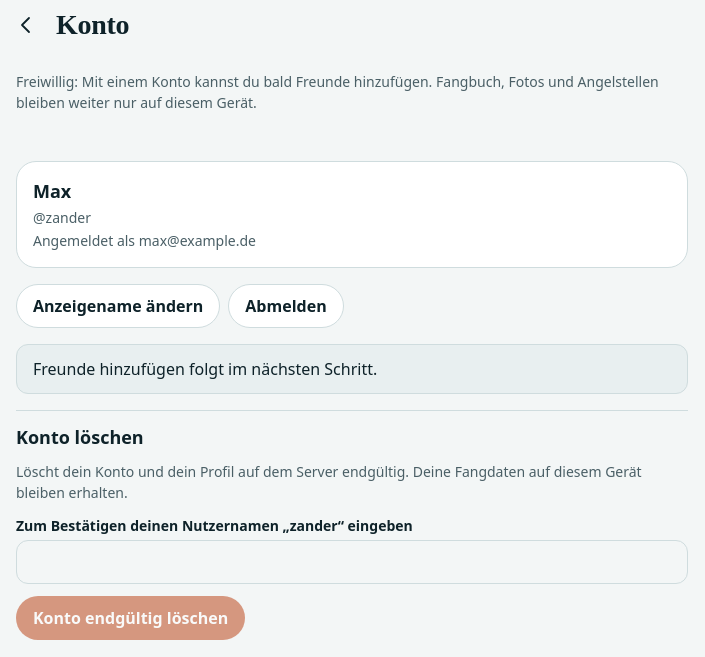
Scenario: Mehr → Konto (ACC-2) › Konto löschen nur nach Eingabe des Nutzernamens
expect the button "Konto endgültig löschen" is disabled: met, box [16,596,245,640]
Step 1. Type "Zander" into the field labelled "Zum Bestätigen deinen Nutzernamen „zander“ eingeben" → (352, 562), box [16,540,688,584]
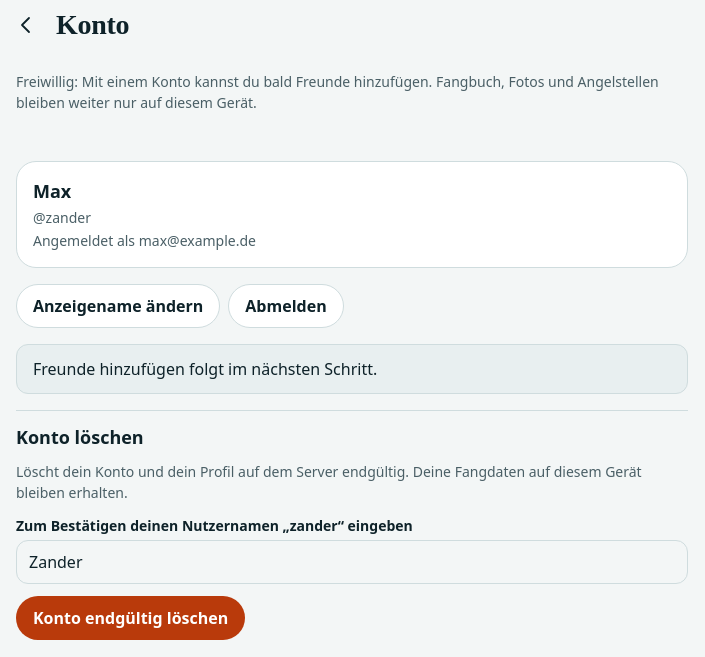
expect the button "Konto endgültig löschen" is enabled: met
Step 2. Click the button "Konto endgültig löschen" → (131, 618), box [16,596,245,640]
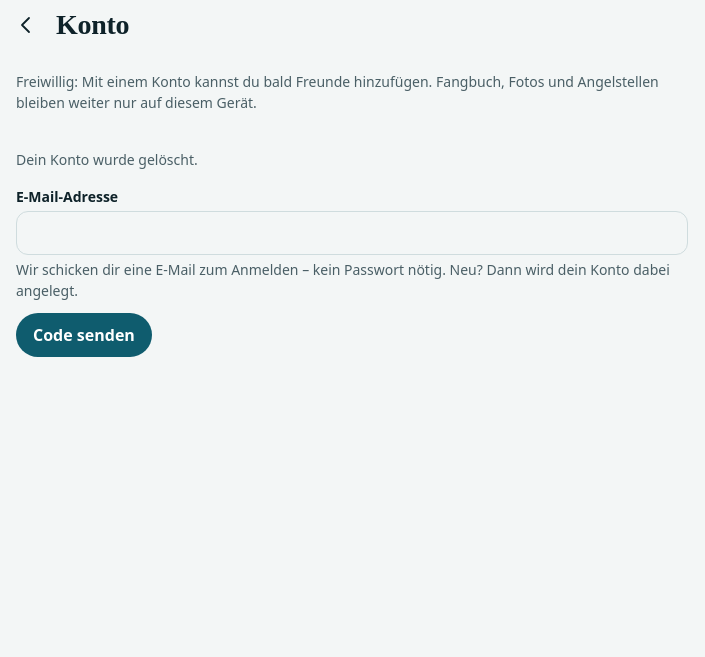
expect the text "Dein Konto wurde gelöscht." is shown: met, box [16,150,198,169]
